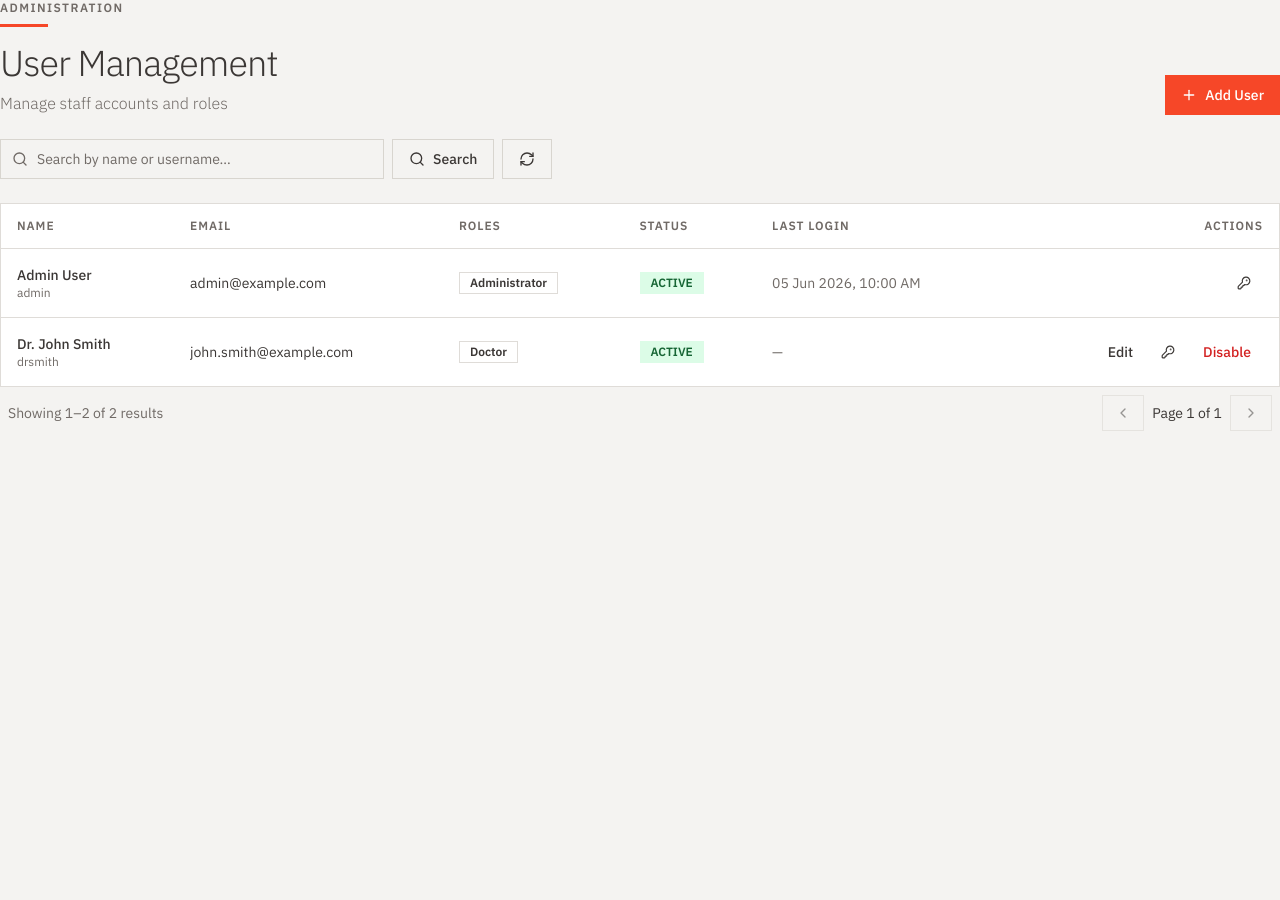
it: UsersListPage › opens Create User dialog when Add User is clicked
The width and height of the screenshot is (1280, 900).
Expected: the text "Admin User" is shown, [17, 266, 92, 284]
Click the button with aria-label "create new user".
click(1223, 95)  # box [1165, 75, 1279, 115]
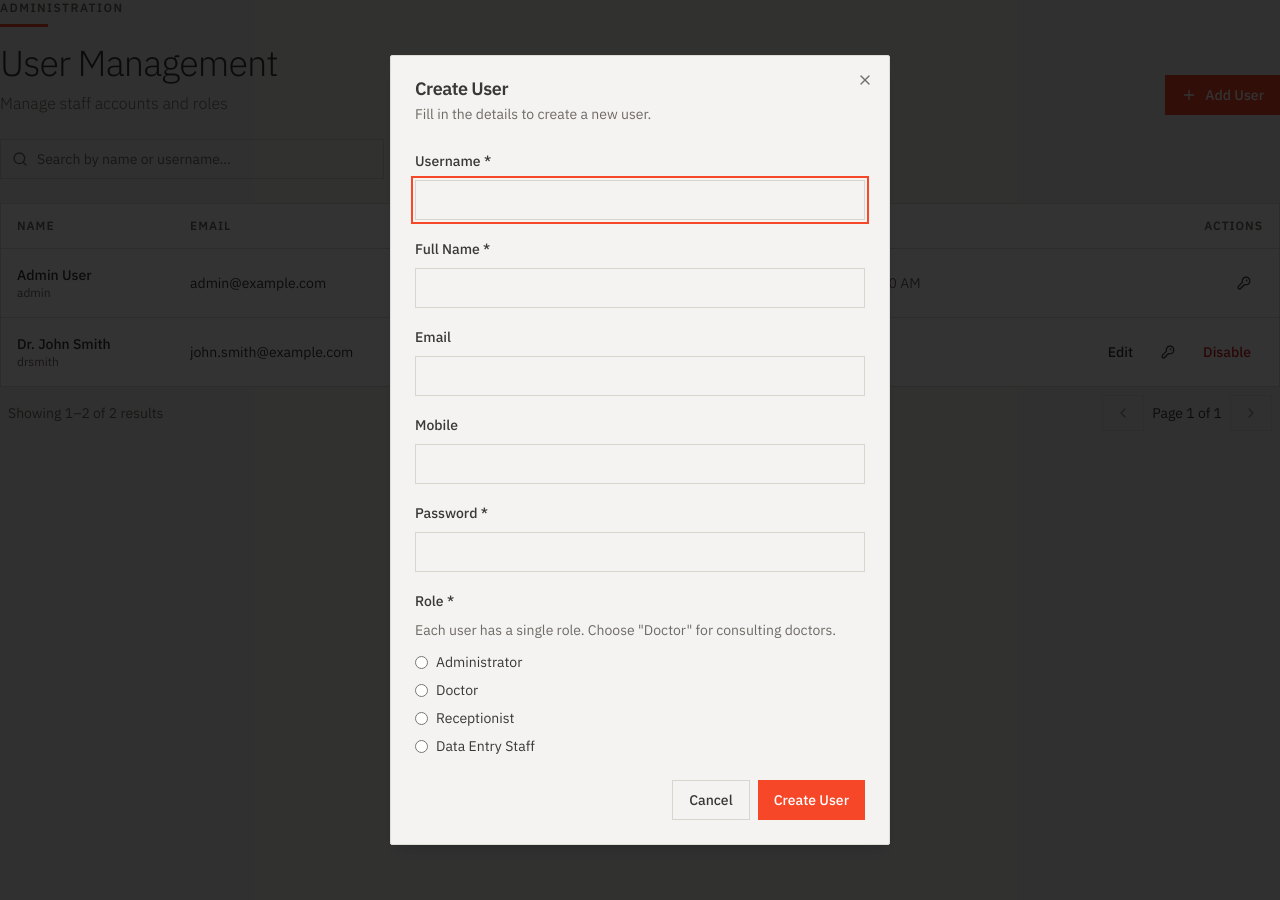
Now the dialog "Create User" is shown, box [390, 55, 890, 845]
